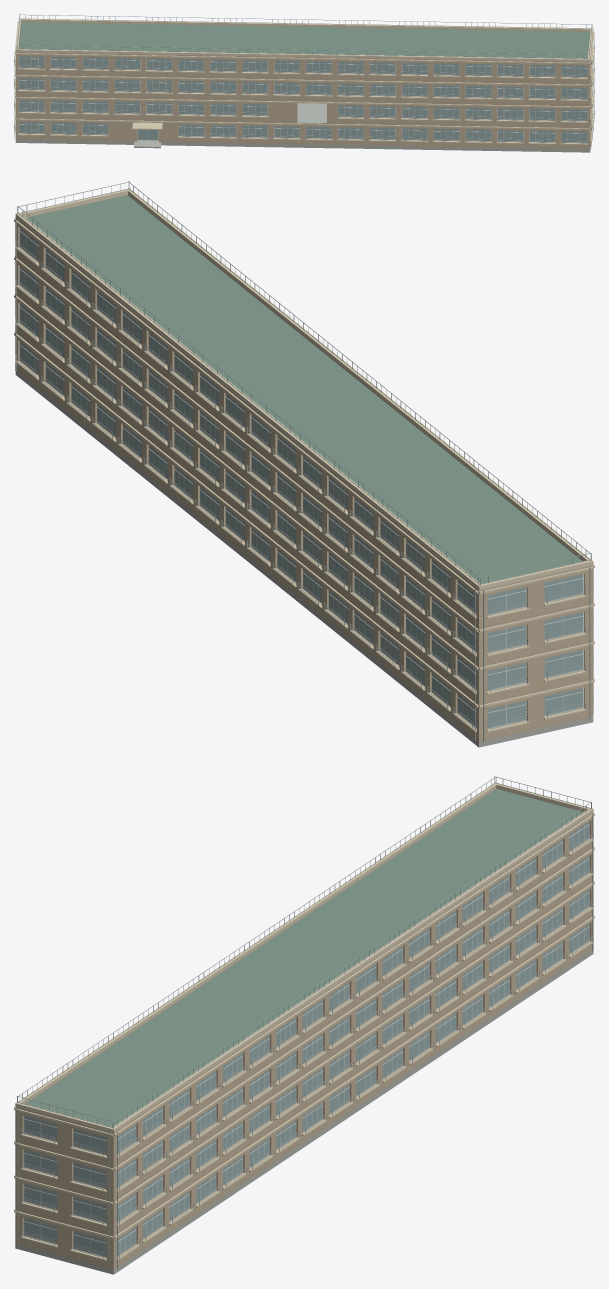
3 views of the same model, one above another, from view 1: azimuth 30°, elevation 25°; view 2: azimuth 150°, elevation 25°; view 3: azimuth 270°, elevation 25° (orthographic). The views are drawn at different scales.
Parts seen in each view (by area): view 1: annex__wall, annex__glass, annex__roof, annex__cream, annex__metal, annex__frame, annex__stone; view 2: annex__roof, annex__wall, annex__glass, annex__cream, annex__metal, annex__frame, annex__stone; view 3: annex__wall, annex__roof, annex__glass, annex__cream, annex__metal, annex__frame, annex__stone.
Boxes of the visible parts, <box> form: annex__wall: <box>15,22,593,149</box>; annex__glass: <box>19,36,589,142</box>; annex__roof: <box>19,22,589,58</box>; annex__cream: <box>14,19,594,144</box>; annex__metal: <box>14,14,594,149</box>; annex__frame: <box>18,56,587,142</box>; annex__stone: <box>15,54,592,152</box>; annex__roof: <box>26,195,582,583</box>; annex__wall: <box>15,195,593,741</box>; annex__glass: <box>20,228,582,727</box>; annex__cream: <box>14,189,594,732</box>; annex__metal: <box>15,181,593,741</box>; annex__frame: <box>19,228,583,728</box>; annex__stone: <box>15,370,593,747</box>; annex__wall: <box>15,788,593,1269</box>; annex__roof: <box>26,788,583,1126</box>; annex__glass: <box>24,821,589,1256</box>; annex__cream: <box>14,783,594,1260</box>; annex__metal: <box>17,776,593,1269</box>; annex__frame: <box>23,821,589,1257</box>; annex__stone: <box>15,949,593,1274</box>.
Size of the model in its own units: 74.39 by 15.14 by 52.44.
8 materials, 1 textured.
